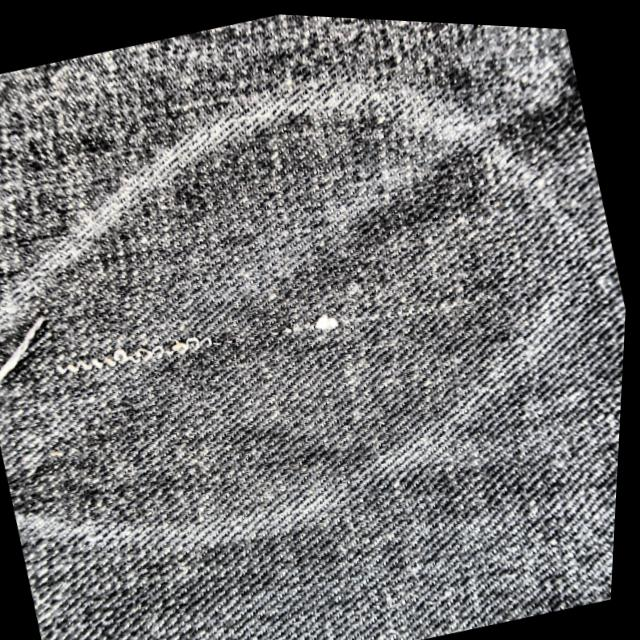Hole: (41, 249, 495, 426)
